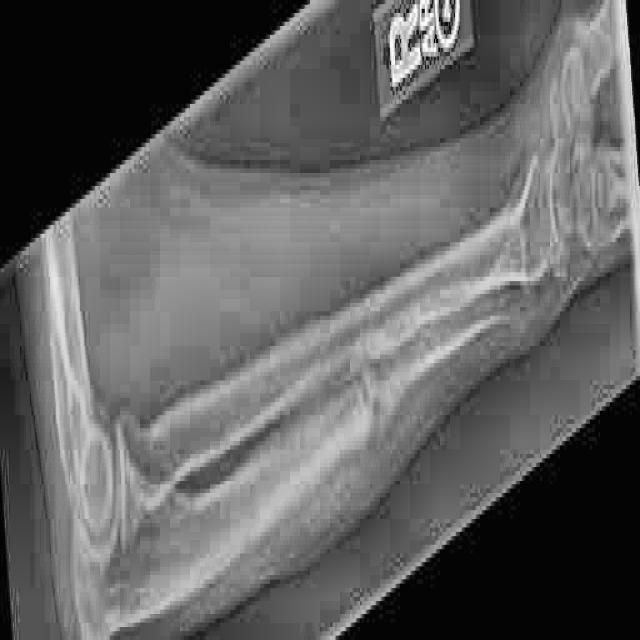forearm fracture: (341, 323, 414, 492)
